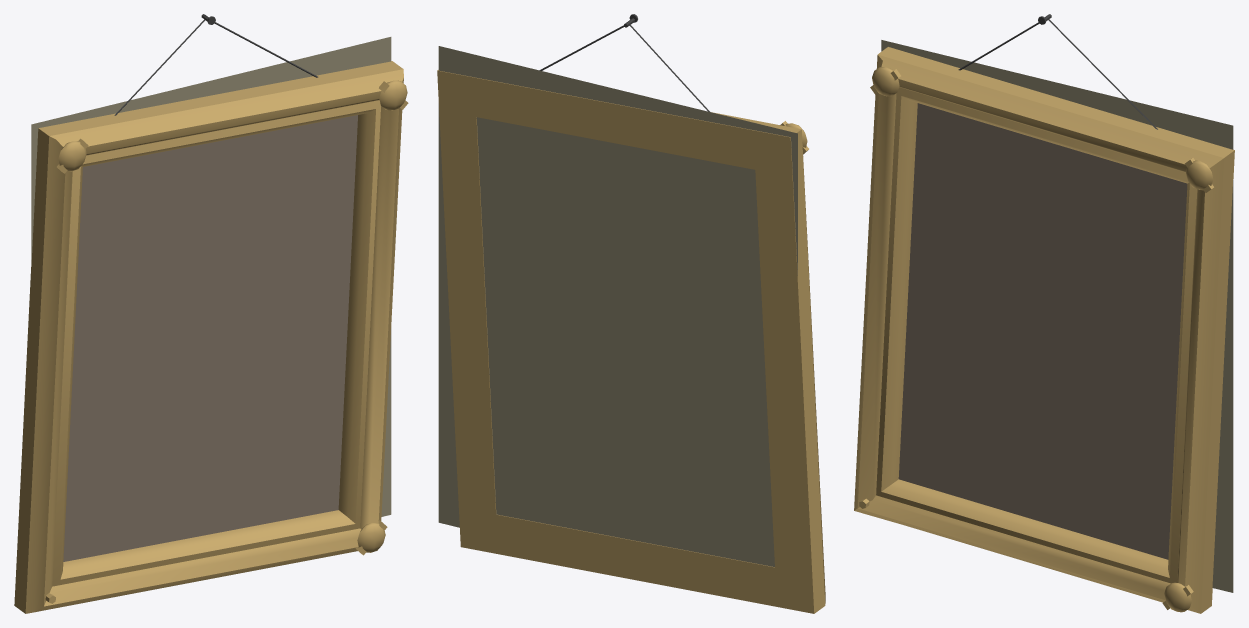
The model's file is portrait.glb.
The picture shows the model from 3 angles, left to right: view 1: azimuth 30°, elevation 25°; view 2: azimuth 150°, elevation 25°; view 3: azimuth 330°, elevation 25°; orthographic projection. The views are drawn at different scales.
Parts seen in each view (by area): view 1: INT_portrait_canvas, portrait_static; view 2: portrait_static; view 3: INT_portrait_canvas, portrait_static.
Part boxes in pixels (x1,y1,x2,y2): INT_portrait_canvas: (63, 115, 357, 561); portrait_static: (14, 14, 408, 613); portrait_static: (437, 14, 825, 613); INT_portrait_canvas: (898, 103, 1187, 559); portrait_static: (854, 14, 1234, 613).
Size of the model in its own units: 0.5859 by 0.8419 by 0.0599.
